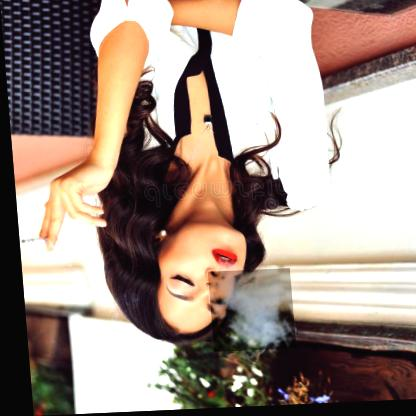smoke: (203, 270, 290, 353)
